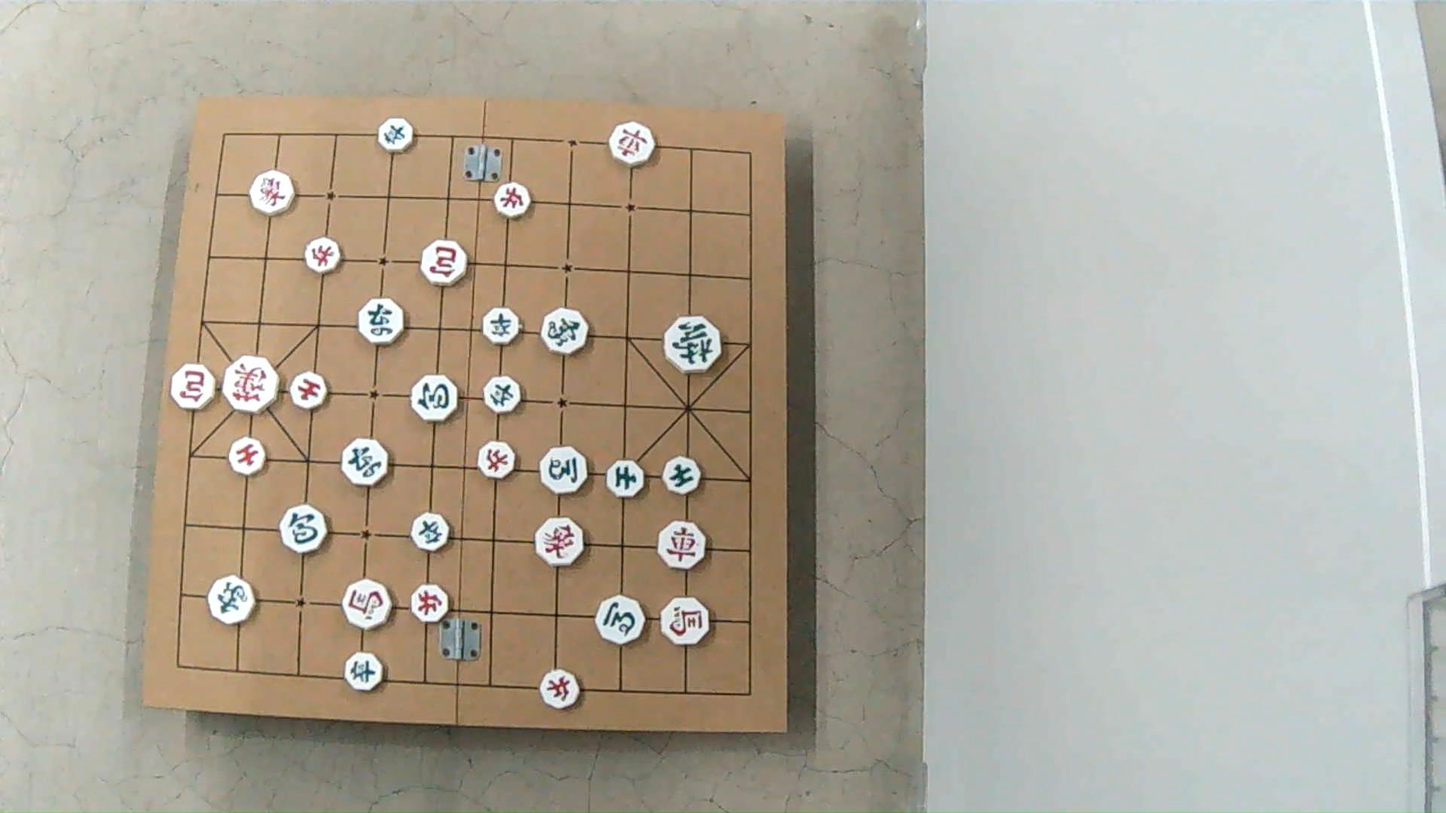cha_green: (345, 439, 392, 486), (360, 297, 406, 344)
cha_red: (661, 522, 709, 571), (609, 123, 655, 166)
jol_green: (411, 514, 449, 552), (345, 653, 383, 691), (483, 376, 521, 413), (484, 310, 521, 347), (378, 119, 413, 153)
jol_red: (541, 669, 581, 709), (409, 584, 447, 623), (478, 440, 514, 478), (493, 181, 529, 216), (304, 239, 340, 274)
ma_green: (596, 598, 645, 646), (539, 446, 587, 493)
ma_red: (341, 580, 390, 629), (664, 598, 712, 645)
po_green: (283, 507, 329, 554), (410, 377, 456, 423)
po_red: (423, 241, 470, 286), (170, 365, 215, 411)
sa_green: (663, 457, 701, 495), (609, 461, 644, 498)
sa_red: (228, 437, 266, 474), (290, 373, 328, 410)
sang_green: (209, 576, 255, 624), (541, 308, 587, 355)
sang_red: (536, 520, 584, 568), (250, 172, 294, 216)
wang_green: (665, 318, 721, 375)
wang_red: (224, 357, 279, 413)
